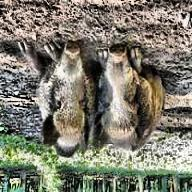boar: (22, 23, 91, 168), (92, 36, 172, 158)
